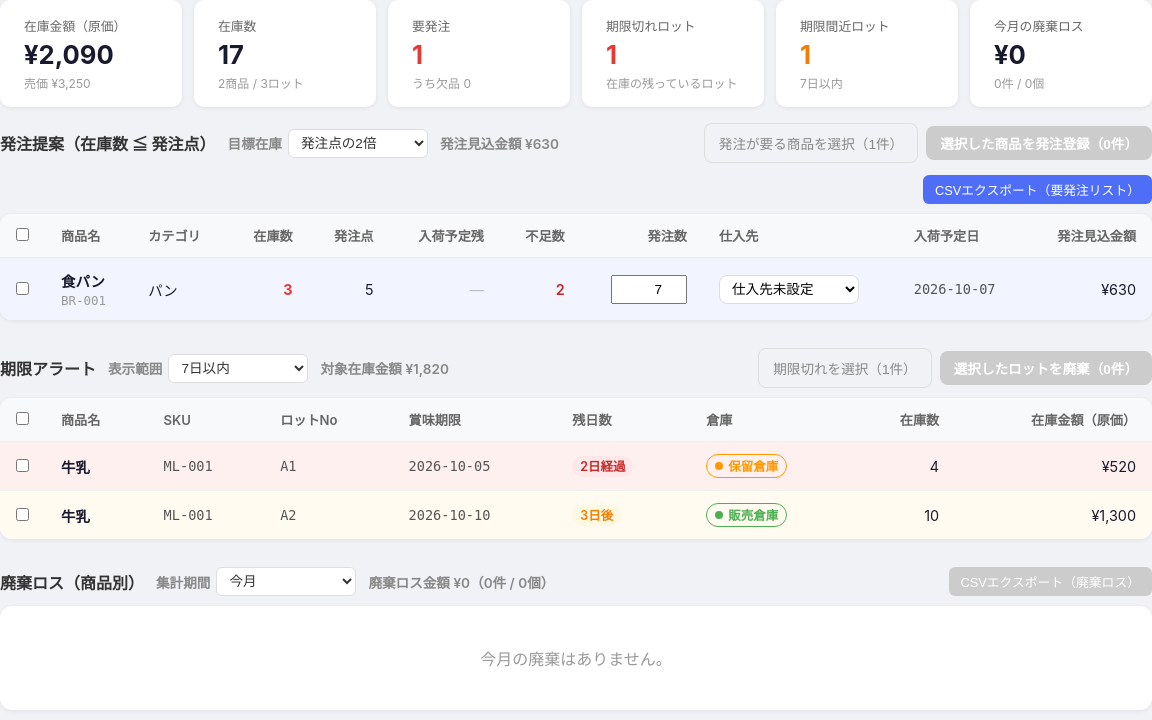
Scenario: DashboardView › 期限内のロットを選ぶと確認ダイアログで注意を出す
Click the checkbox named "牛乳 ロットA2 を選択" at point(22, 514), box [16,508,29,520]
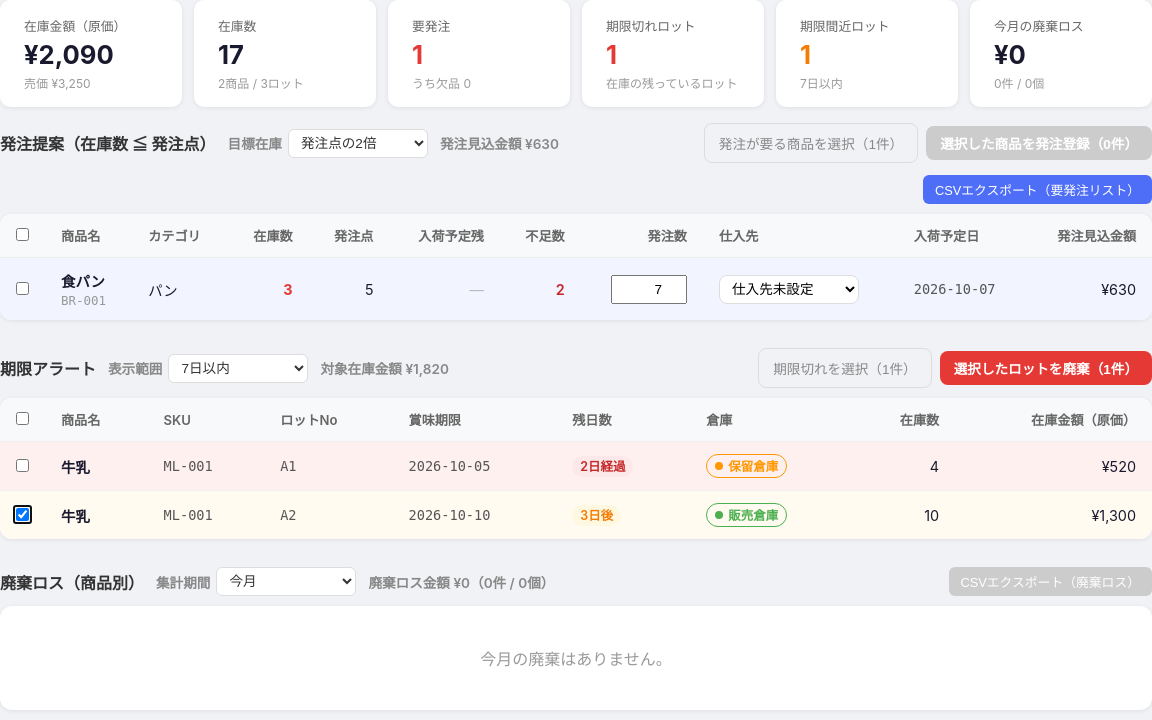
Click the button "選択したロットを廃棄（1件）" at point(1046, 368), box [940,351,1151,385]
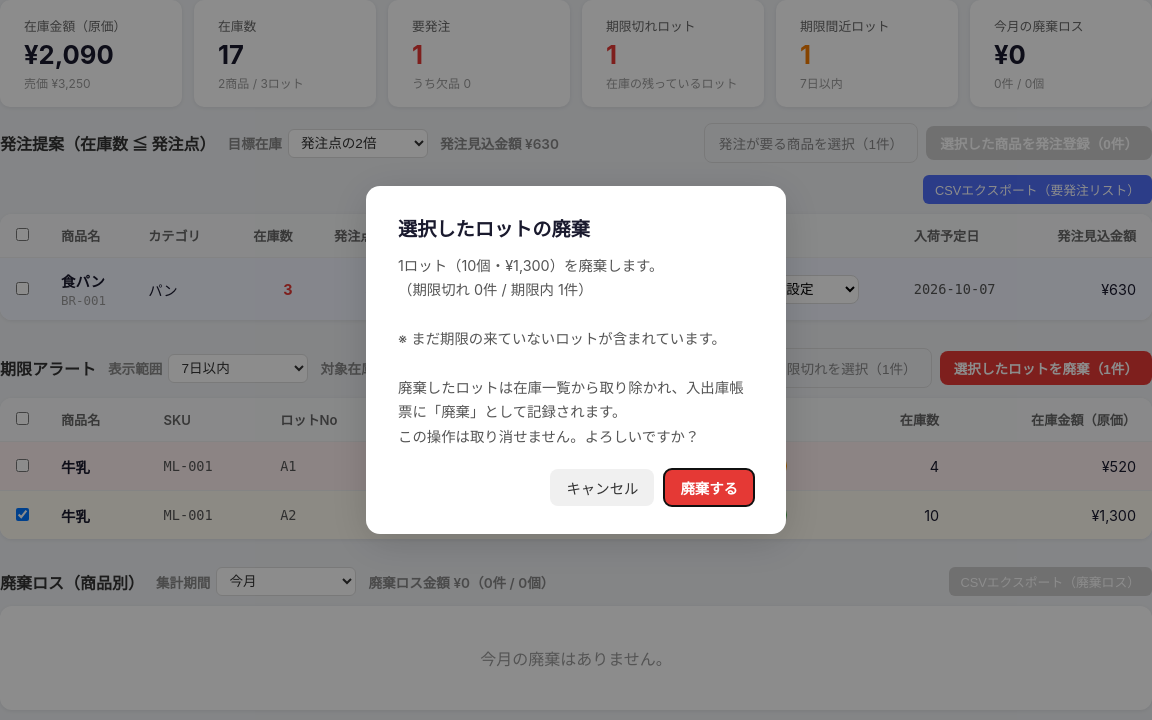
Expected: the text "まだ期限の来ていないロットが含まれています" is shown, [398,257,744,445]
